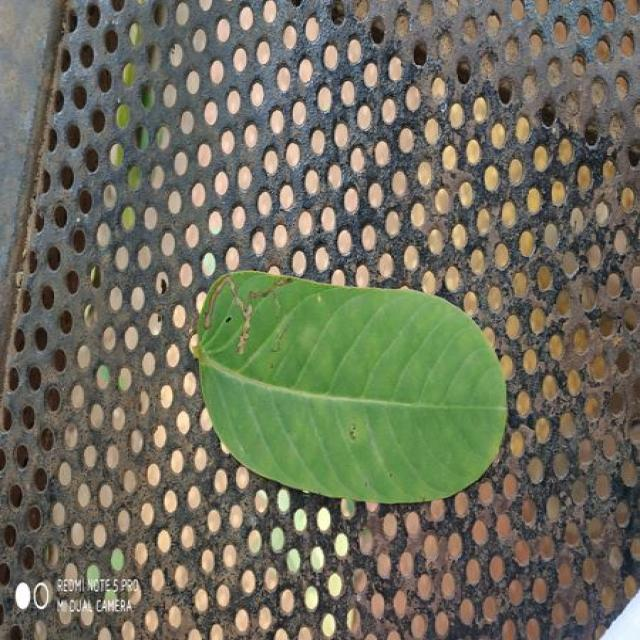chakte: (198, 271, 507, 503)
